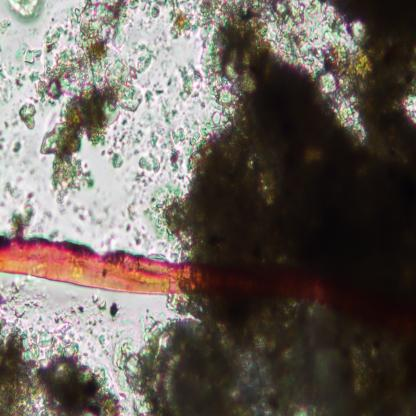Background material: (199, 0, 416, 269), (121, 294, 416, 414), (42, 45, 152, 205), (0, 298, 129, 414), (34, 0, 128, 101), (146, 178, 199, 252), (153, 110, 197, 174), (127, 0, 198, 38), (101, 112, 142, 171), (133, 150, 162, 192), (5, 201, 37, 237), (127, 202, 150, 249), (73, 200, 110, 229), (0, 64, 26, 105), (176, 62, 202, 100), (8, 0, 45, 25), (32, 199, 57, 235), (90, 293, 122, 318), (18, 99, 38, 131), (16, 42, 40, 65), (2, 181, 26, 200), (0, 18, 11, 36), (10, 139, 22, 155), (0, 126, 7, 153), (26, 192, 38, 198)
Microfibre: (0, 235, 416, 314)
